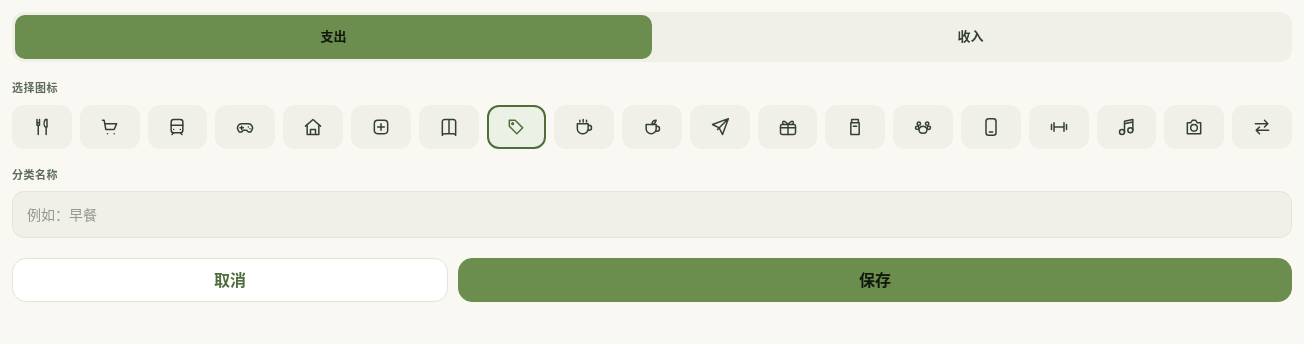
Scenario: shows inline validation for an empty name
Click the button with aria-label "保存分类" at coordinates (875, 280), box [458,258,1292,302]
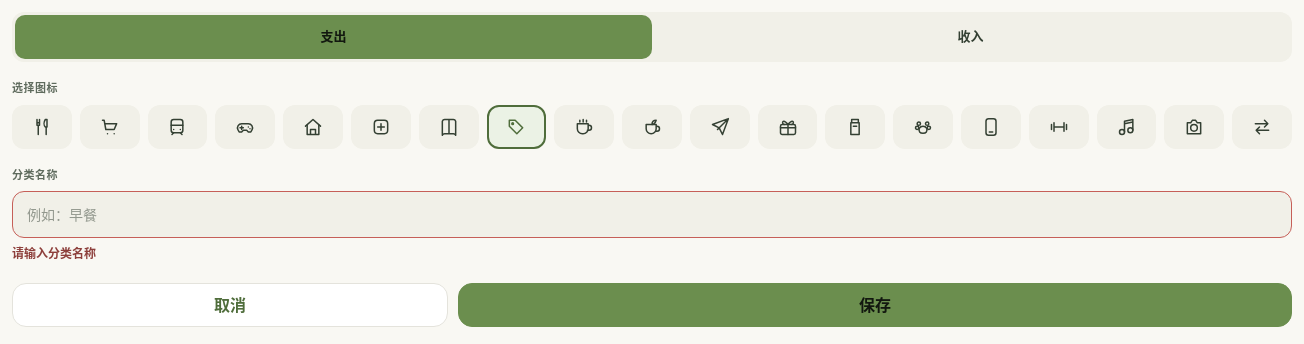
Result: the message reads "请输入分类名称" at [12,246,96,261]
